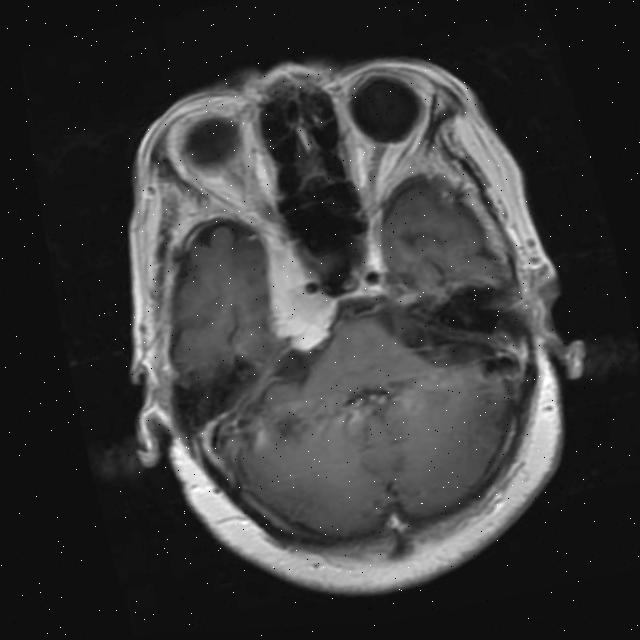Meningioma: (247, 230, 344, 359)
